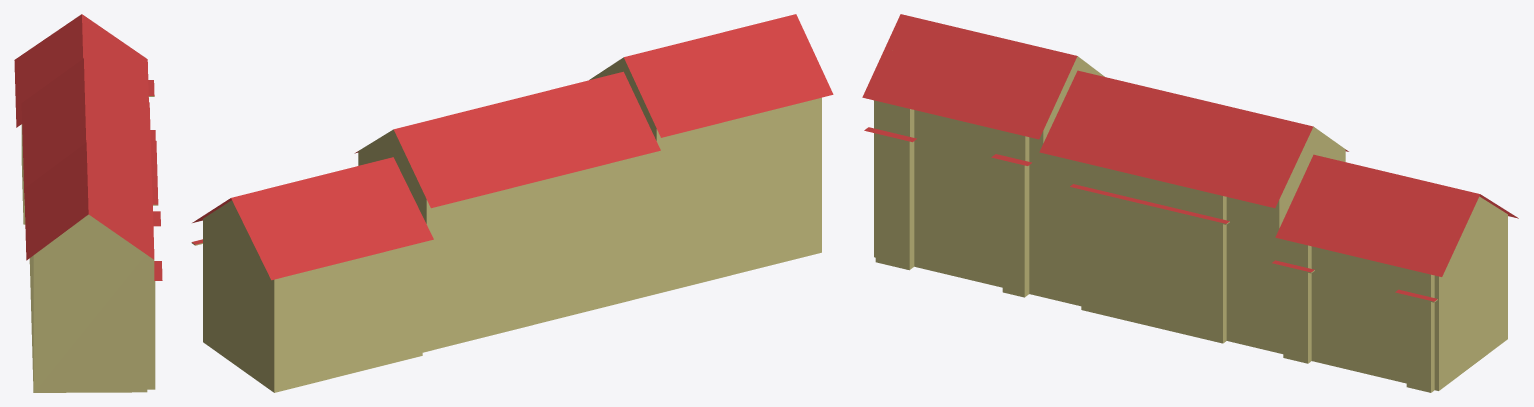
3 renders of one model, left to right at view 1: azimuth 30°, elevation 25°; view 2: azimuth 150°, elevation 25°; view 3: azimuth 270°, elevation 25°, orthographic. The views are drawn at different scales.
Parts seen in each view (by area): view 1: group_9, group_3, group_7, group_11, group_12, group_8, group_4, group_26, group_13, group_21, group_19; view 2: group_5, group_13, group_9, group_3, group_7, group_11, group_12, group_4; view 3: group_5, group_13, group_3, group_9, group_11, group_7, group_21, group_17, group_8, group_26, group_4.
Part boxes in pixels (bbox=[...]): group_9: bbox=[31, 214, 154, 392]; group_3: bbox=[21, 58, 151, 198]; group_7: bbox=[24, 142, 154, 260]; group_11: bbox=[14, 14, 148, 127]; group_12: bbox=[14, 14, 148, 127]; group_8: bbox=[88, 183, 154, 258]; group_4: bbox=[22, 99, 151, 195]; group_26: bbox=[150, 140, 158, 204]; group_13: bbox=[21, 124, 25, 224]; group_21: bbox=[154, 281, 155, 389]; group_19: bbox=[154, 261, 162, 280]; group_5: bbox=[358, 129, 656, 351]; group_13: bbox=[203, 200, 426, 392]; group_9: bbox=[589, 57, 821, 293]; group_3: bbox=[393, 71, 660, 208]; group_7: bbox=[624, 14, 833, 137]; group_11: bbox=[197, 157, 433, 279]; group_12: bbox=[192, 199, 433, 279]; group_4: bbox=[354, 142, 659, 206]; group_5: bbox=[1043, 126, 1345, 353]; group_13: bbox=[1279, 196, 1507, 392]; group_3: bbox=[1039, 70, 1348, 208]; group_9: bbox=[874, 56, 1104, 297]; group_11: bbox=[1275, 154, 1518, 276]; group_7: bbox=[862, 16, 1077, 137]; group_21: bbox=[875, 133, 909, 270]; group_17: bbox=[1002, 160, 1025, 297]; group_8: bbox=[863, 14, 1043, 139]; group_26: bbox=[1070, 184, 1229, 223]; group_4: bbox=[1044, 143, 1348, 198].
Size of the model in its own units: 40.61 by 57.72 by 20.9.
